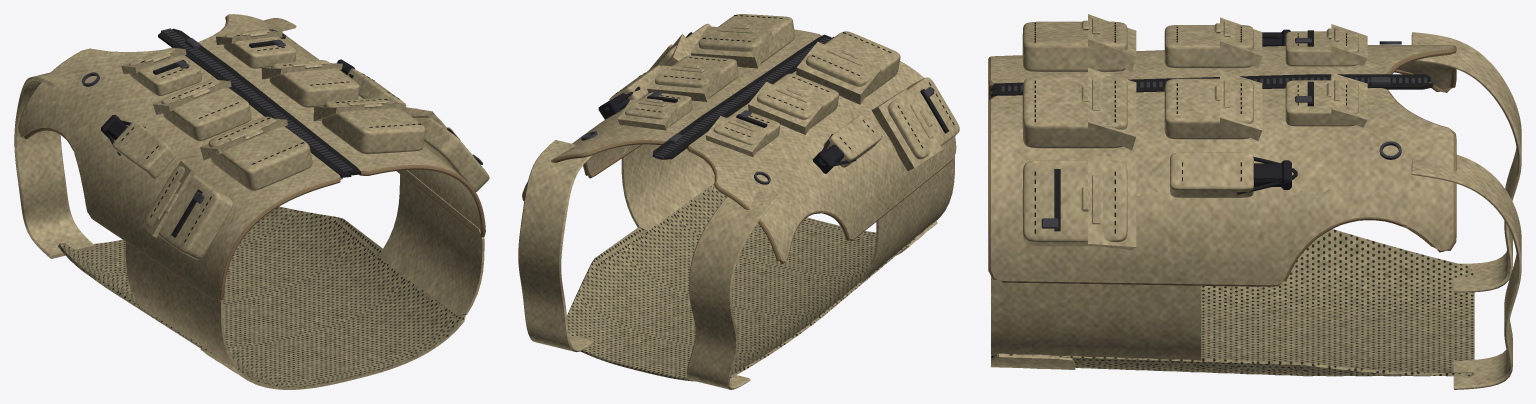
Rendered from colete_pesca.glb.
The picture shows the model from 3 angles, left to right: view 1: azimuth 30°, elevation 25°; view 2: azimuth 150°, elevation 25°; view 3: azimuth 270°, elevation 25°; orthographic projection. The views are drawn at different scales.
Visible parts, largest first — view 1: colete_pesca_cordura_caqui, colete_pesca_malha_caqui, colete_pesca_nylon_preto, colete_pesca_nylon_coiote, colete_pesca_aluminio_escuro, colete_pesca_costura_escura, colete_pesca_polimero_mag; view 2: colete_pesca_cordura_caqui, colete_pesca_malha_caqui, colete_pesca_nylon_preto, colete_pesca_nylon_coiote, colete_pesca_aluminio_escuro, colete_pesca_polimero_mag, colete_pesca_costura_escura; view 3: colete_pesca_cordura_caqui, colete_pesca_malha_caqui, colete_pesca_nylon_coiote, colete_pesca_nylon_preto, colete_pesca_aluminio_escuro, colete_pesca_polimero_mag, colete_pesca_costura_escura.
Part boxes in pixels (x1,y1,x2,y2): colete_pesca_cordura_caqui: [14, 14, 489, 389]; colete_pesca_malha_caqui: [58, 206, 464, 388]; colete_pesca_nylon_preto: [153, 28, 457, 237]; colete_pesca_nylon_coiote: [18, 14, 485, 301]; colete_pesca_aluminio_escuro: [81, 28, 482, 203]; colete_pesca_costura_escura: [121, 35, 484, 242]; colete_pesca_polimero_mag: [101, 59, 354, 140]; colete_pesca_cordura_caqui: [518, 14, 959, 389]; colete_pesca_malha_caqui: [567, 184, 936, 381]; colete_pesca_nylon_preto: [647, 32, 948, 159]; colete_pesca_nylon_coiote: [522, 34, 956, 263]; colete_pesca_aluminio_escuro: [581, 38, 934, 184]; colete_pesca_polimero_mag: [598, 93, 844, 173]; colete_pesca_costura_escura: [615, 15, 954, 149]; colete_pesca_cordura_caqui: [991, 14, 1521, 389]; colete_pesca_malha_caqui: [991, 229, 1474, 376]; colete_pesca_nylon_coiote: [988, 45, 1456, 286]; colete_pesca_nylon_preto: [991, 30, 1432, 231]; colete_pesca_aluminio_escuro: [1001, 38, 1433, 228]; colete_pesca_polimero_mag: [1253, 29, 1291, 189]; colete_pesca_costura_escura: [1034, 22, 1346, 233].
Bounding box in the file's own units: 0.4148 × 0.3006 × 0.5075.
Materials: 8 (3 with a texture image).
